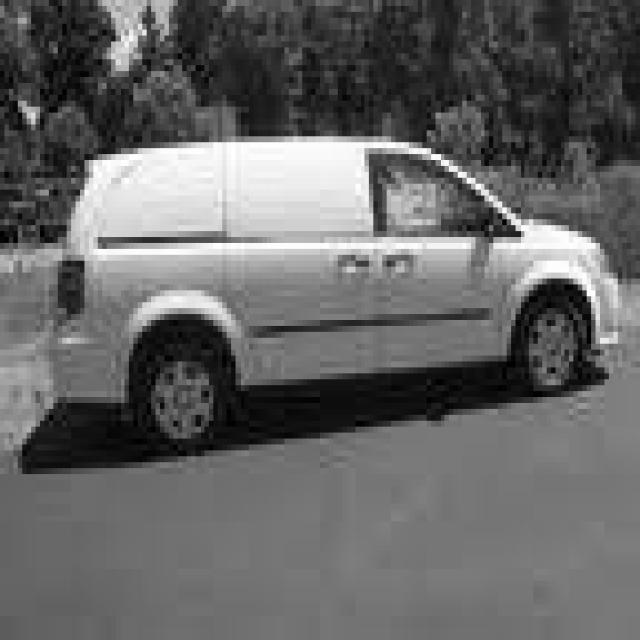car: (44, 130, 618, 450)
